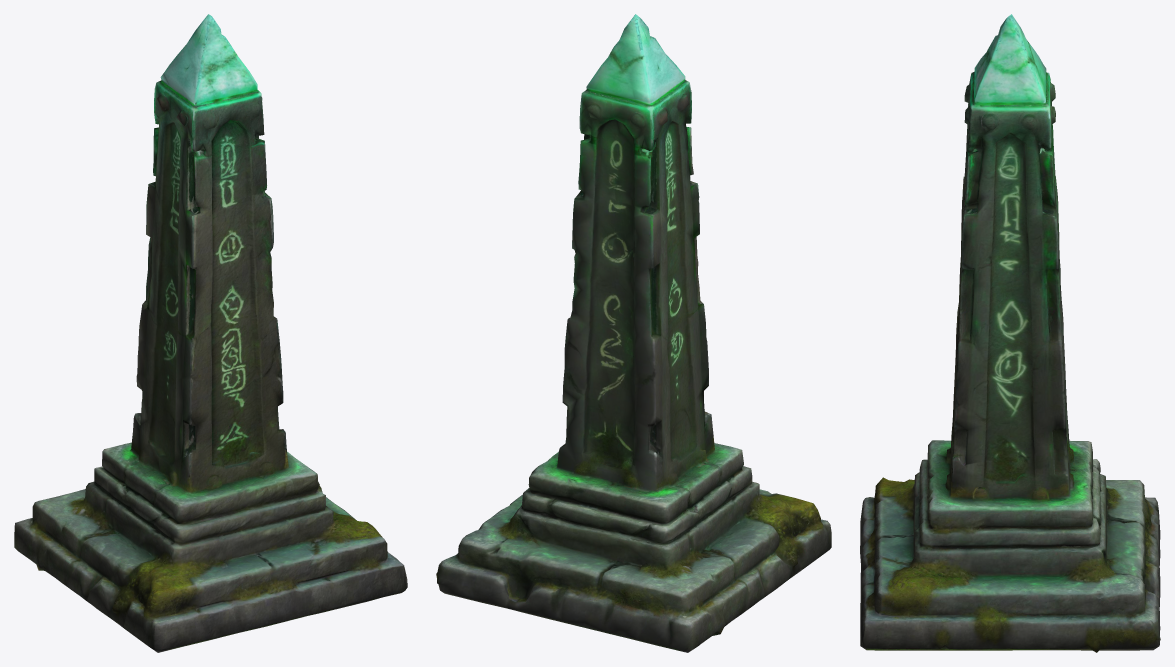
The model's file is obelisk_high_quality.glb.
3 views of the same model, side by side, from view 1: azimuth 30°, elevation 25°; view 2: azimuth 150°, elevation 25°; view 3: azimuth 270°, elevation 25° (orthographic). The views are drawn at different scales.
Visible parts, largest first — view 1: Base; view 2: Base; view 3: Base.
Boxes of the visible parts, x1,y1,x2,y2 form: Base: (14,14,407,652); Base: (436,14,831,652); Base: (860,14,1160,652).
Bounding box in the file's own units: 0.9384 × 1.92 × 0.9095.
Materials: 1 (1 with a texture image).
